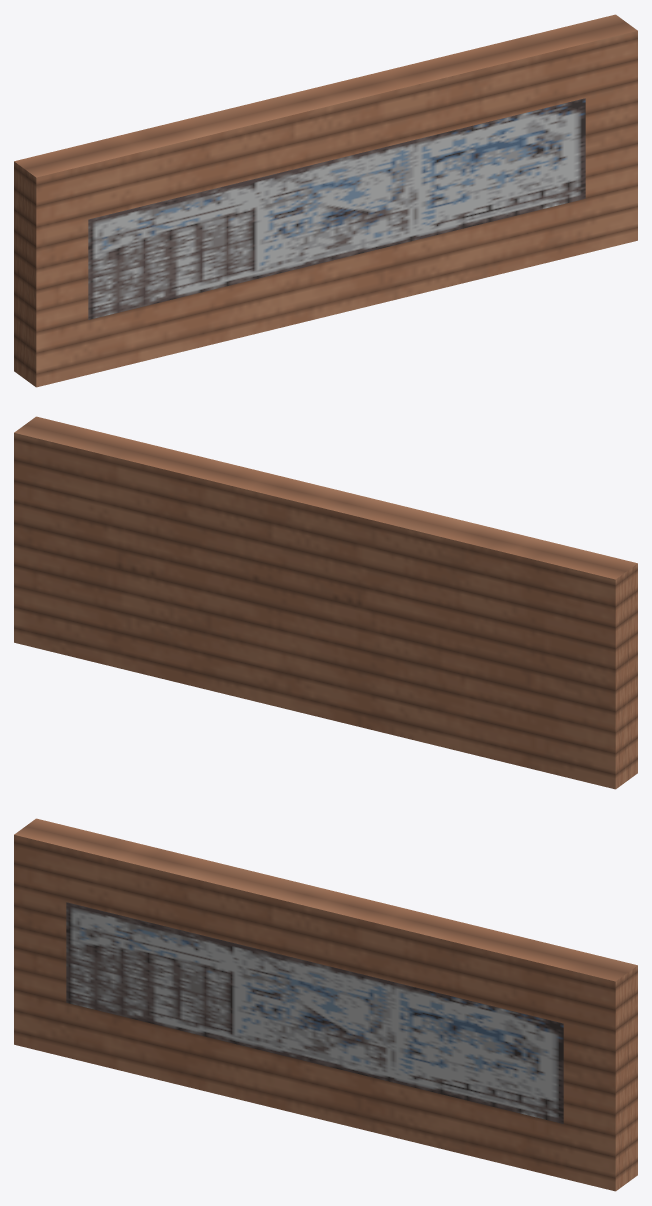
The model's file is Wall1.fbx.
3 renders of one model, top to bottom at view 1: azimuth 30°, elevation 25°; view 2: azimuth 150°, elevation 25°; view 3: azimuth 330°, elevation 25°, orthographic.
Visible parts, largest first — view 1: Cube.002; view 2: Cube.002; view 3: Cube.002.
Part boxes in pixels (<box>): Cube.002: <box>14,14,637,387</box>; Cube.002: <box>14,416,637,789</box>; Cube.002: <box>14,818,637,1191</box>.
Bounding box in the file's own units: 600 × 200 × 38.42.
Materials: 2 (2 with a texture image).
